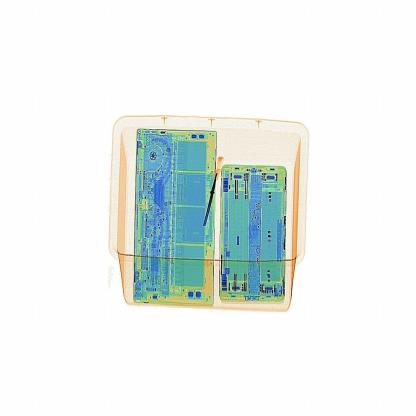gun: (195, 150, 237, 231)
